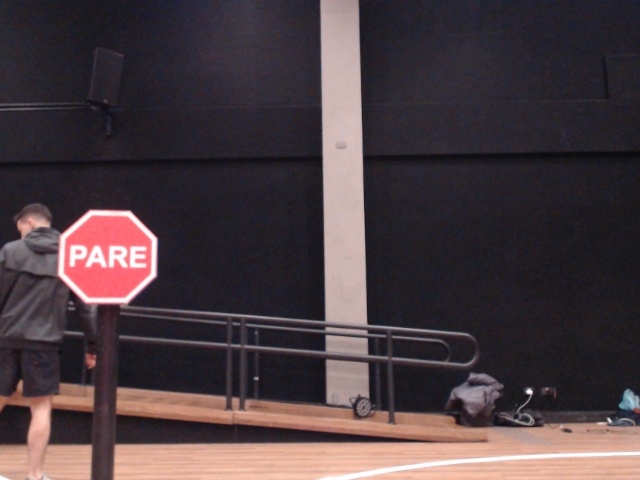SEMAFORO: (9, 180, 218, 372)
